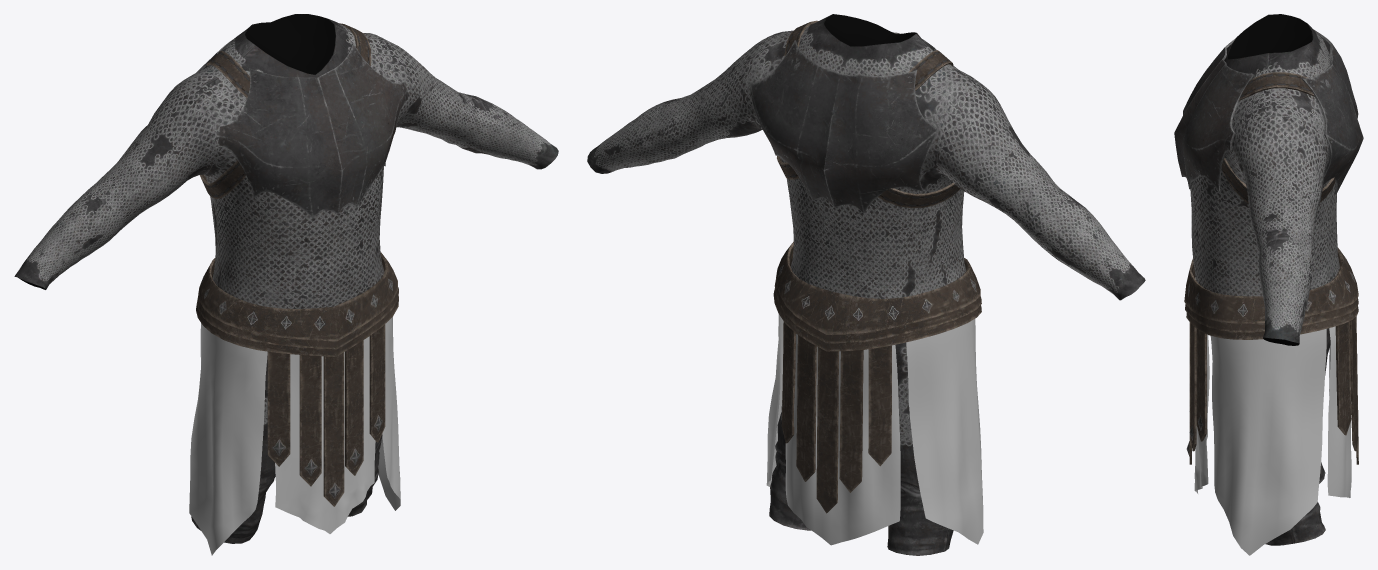
The model's file is sk_uruk_mordor_chainmail_medium_d1.fbx.
The picture shows the model from 3 angles, left to right: view 1: azimuth 30°, elevation 25°; view 2: azimuth 150°, elevation 25°; view 3: azimuth 270°, elevation 25°; orthographic projection. The views are drawn at different scales.
Parts seen in each view (by area): view 1: sk_uruk_mordor_chainmail_medium_d1.0, sk_uruk_mordor_chainmail_medium_d1.1, sk_uruk_mordor_chainmail_medium_d1.2, sk_uruk_mordor_chainmail_medium_d1.3; view 2: sk_uruk_mordor_chainmail_medium_d1.0, sk_uruk_mordor_chainmail_medium_d1.1, sk_uruk_mordor_chainmail_medium_d1.2, sk_uruk_mordor_chainmail_medium_d1.3; view 3: sk_uruk_mordor_chainmail_medium_d1.0, sk_uruk_mordor_chainmail_medium_d1.2, sk_uruk_mordor_chainmail_medium_d1.1, sk_uruk_mordor_chainmail_medium_d1.3.
Part boxes in pixels (x1=…): sk_uruk_mordor_chainmail_medium_d1.0: x1=14, y1=14, x2=558, y2=543; sk_uruk_mordor_chainmail_medium_d1.1: x1=196, y1=23, x2=398, y2=506; sk_uruk_mordor_chainmail_medium_d1.2: x1=189, y1=317, x2=400, y2=555; sk_uruk_mordor_chainmail_medium_d1.3: x1=196, y1=40, x2=407, y2=217; sk_uruk_mordor_chainmail_medium_d1.0: x1=587, y1=14, x2=1145, y2=555; sk_uruk_mordor_chainmail_medium_d1.1: x1=773, y1=20, x2=981, y2=513; sk_uruk_mordor_chainmail_medium_d1.2: x1=766, y1=314, x2=983, y2=545; sk_uruk_mordor_chainmail_medium_d1.3: x1=749, y1=32, x2=957, y2=213; sk_uruk_mordor_chainmail_medium_d1.0: x1=1190, y1=14, x2=1339, y2=545; sk_uruk_mordor_chainmail_medium_d1.2: x1=1194, y1=277, x2=1351, y2=555; sk_uruk_mordor_chainmail_medium_d1.1: x1=1184, y1=72, x2=1358, y2=464; sk_uruk_mordor_chainmail_medium_d1.3: x1=1174, y1=29, x2=1363, y2=194.
Size of the model in its own units: 1.37 by 0.4316 by 1.21.
